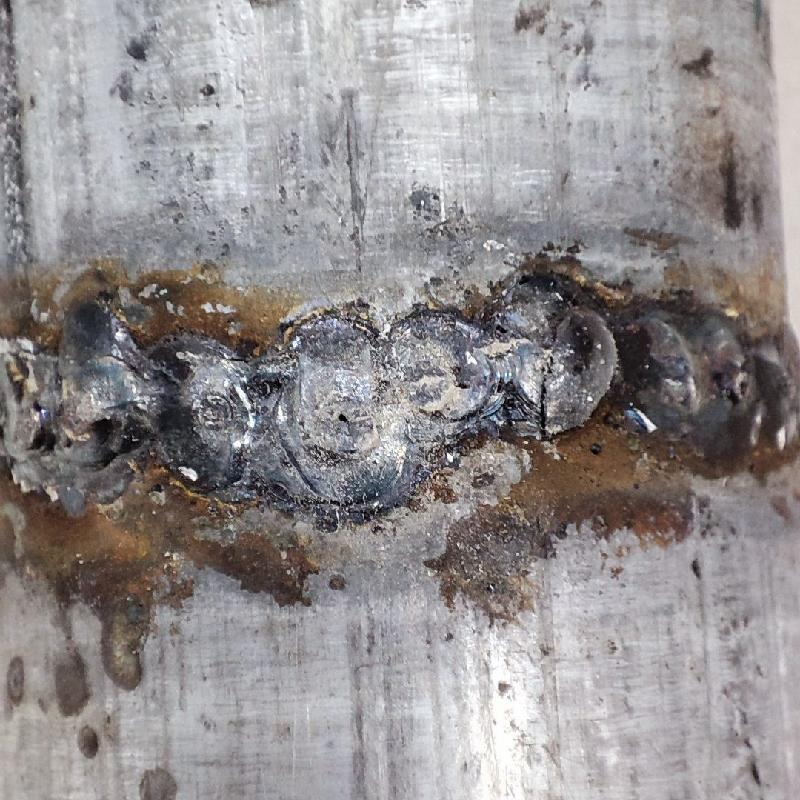Not_fully_soldered: (255, 306, 496, 494)
Surface_pores: (325, 396, 368, 447)
wrong_size: (503, 269, 799, 448)
